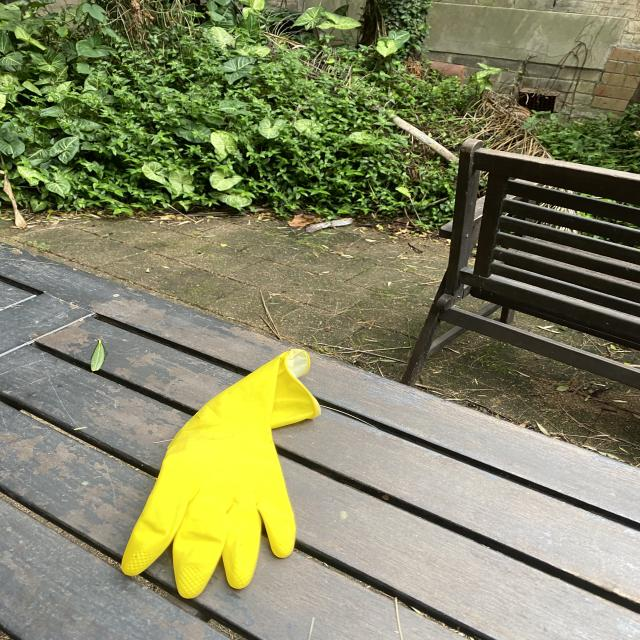glove: (120, 349, 322, 599)
